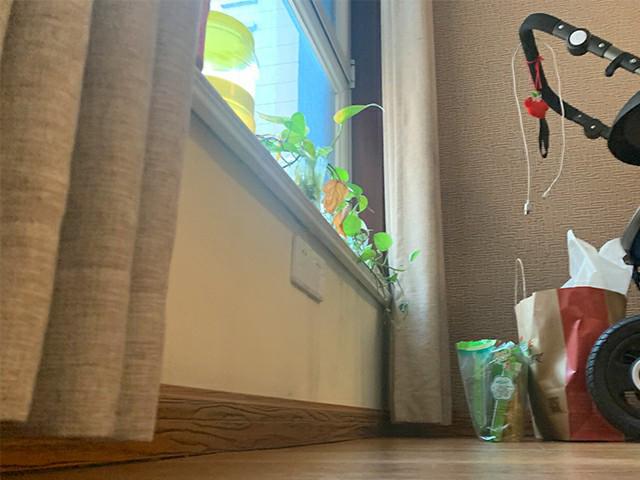curtain: (1, 1, 203, 446), (379, 1, 454, 427)
